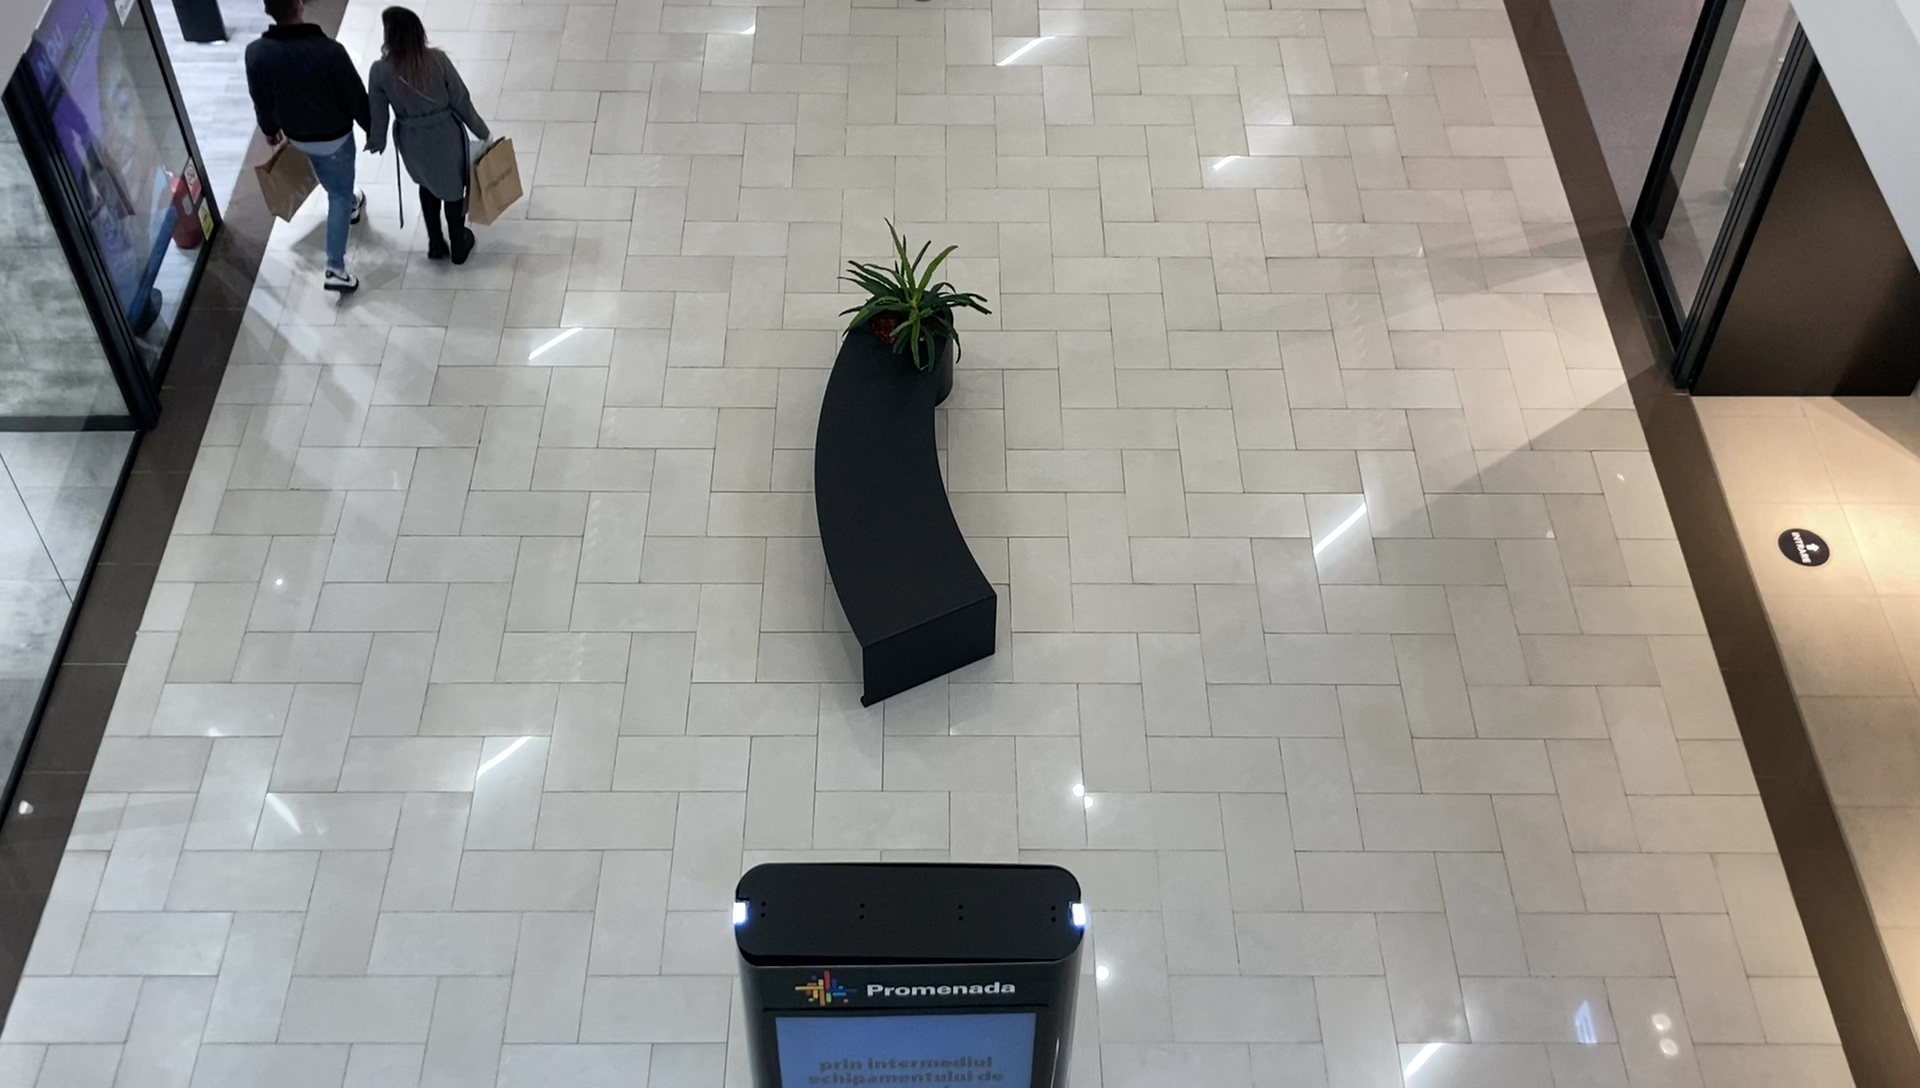person: (243, 3, 369, 293), (370, 1, 491, 267)
